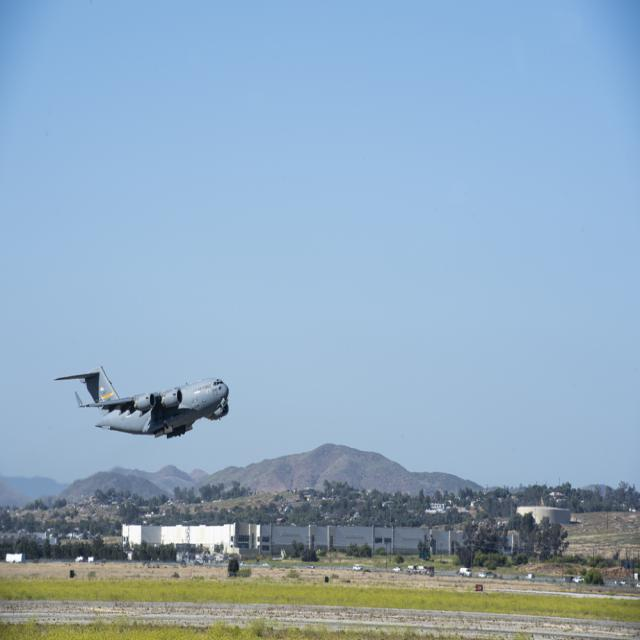MIL_Plane: (72, 366, 210, 438)
